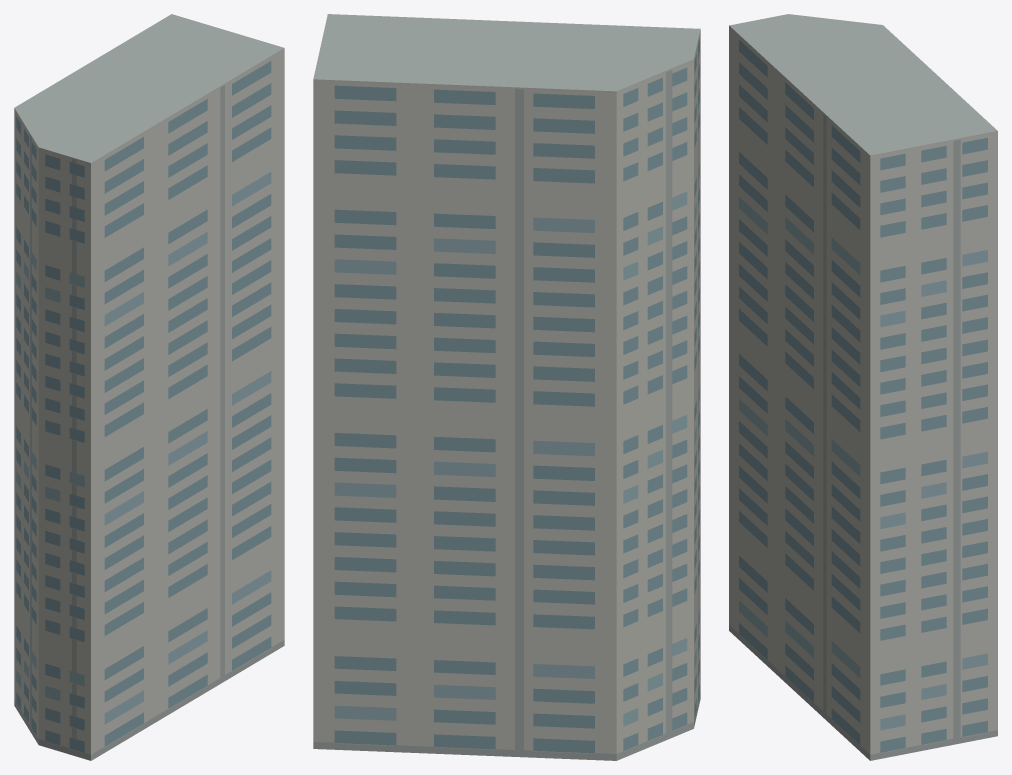
Rendered from residential-77b2fa56-2e05-4a89-9b6a-88a8fb7f56e3.glb.
The picture shows the model from 3 angles, left to right: view 1: azimuth 30°, elevation 25°; view 2: azimuth 150°, elevation 25°; view 3: azimuth 270°, elevation 25°; orthographic projection. The views are drawn at different scales.
Parts seen in each view (by area): view 1: residential-77b2fa56-2e05-4a89-9b6a-88a8fb7f56e3.tmp; view 2: residential-77b2fa56-2e05-4a89-9b6a-88a8fb7f56e3.tmp; view 3: residential-77b2fa56-2e05-4a89-9b6a-88a8fb7f56e3.tmp.
Part boxes in pixels (left/top/right/bottom): residential-77b2fa56-2e05-4a89-9b6a-88a8fb7f56e3.tmp: left=14, top=14, right=284, bottom=760; residential-77b2fa56-2e05-4a89-9b6a-88a8fb7f56e3.tmp: left=313, top=14, right=700, bottom=760; residential-77b2fa56-2e05-4a89-9b6a-88a8fb7f56e3.tmp: left=729, top=14, right=997, bottom=760.
Size of the model in its own units: 48.64 by 97 by 39.03.
